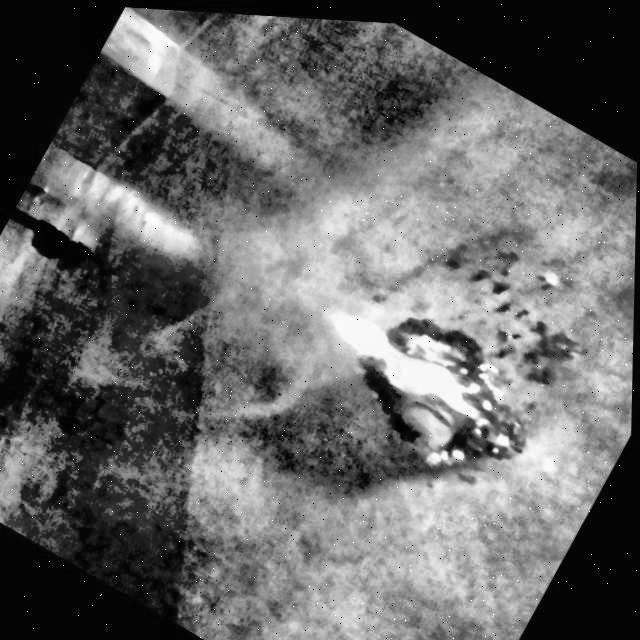Fire: (322, 297, 515, 428)
